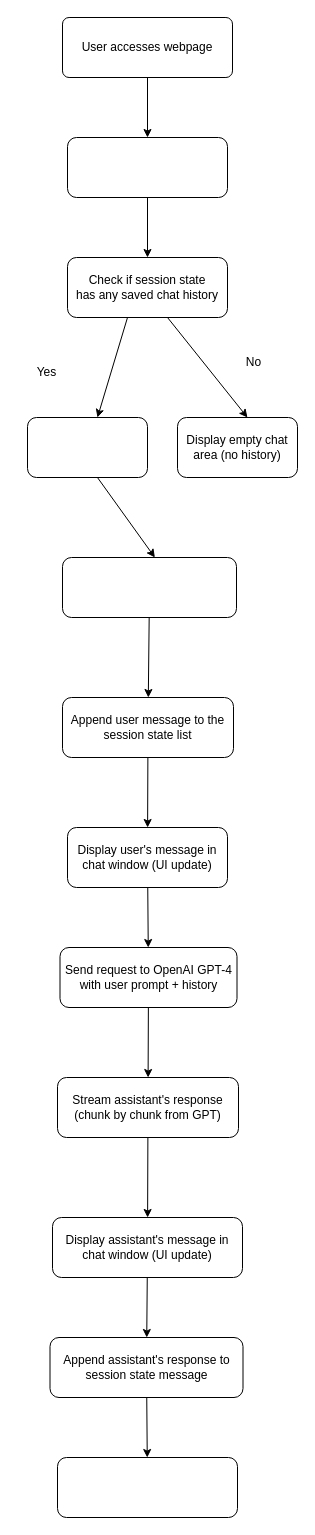
Some shapes in this 315 by 1535 pixel diagram are drawn without their labels. The centre of each missing label's shape, as x and y in pixels:
Display page title, header (GPT-4 Chatbot UI loads): (x=147, y=167)
Display previous messages from session state: (x=87, y=447)
Provide multiple prompts or close the webpage: (x=147, y=1487)
User enters prompt in chat input (UI updates): (x=149, y=587)
